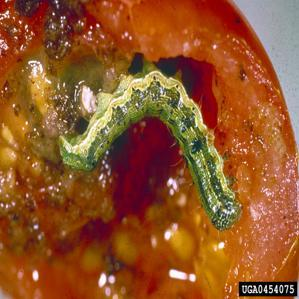Cotton bollworm: (45, 59, 252, 245)
